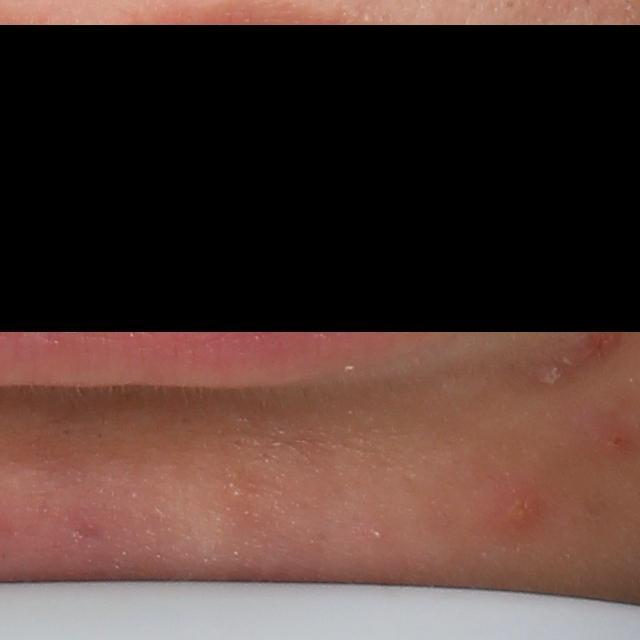papule: (593, 417, 633, 454)
